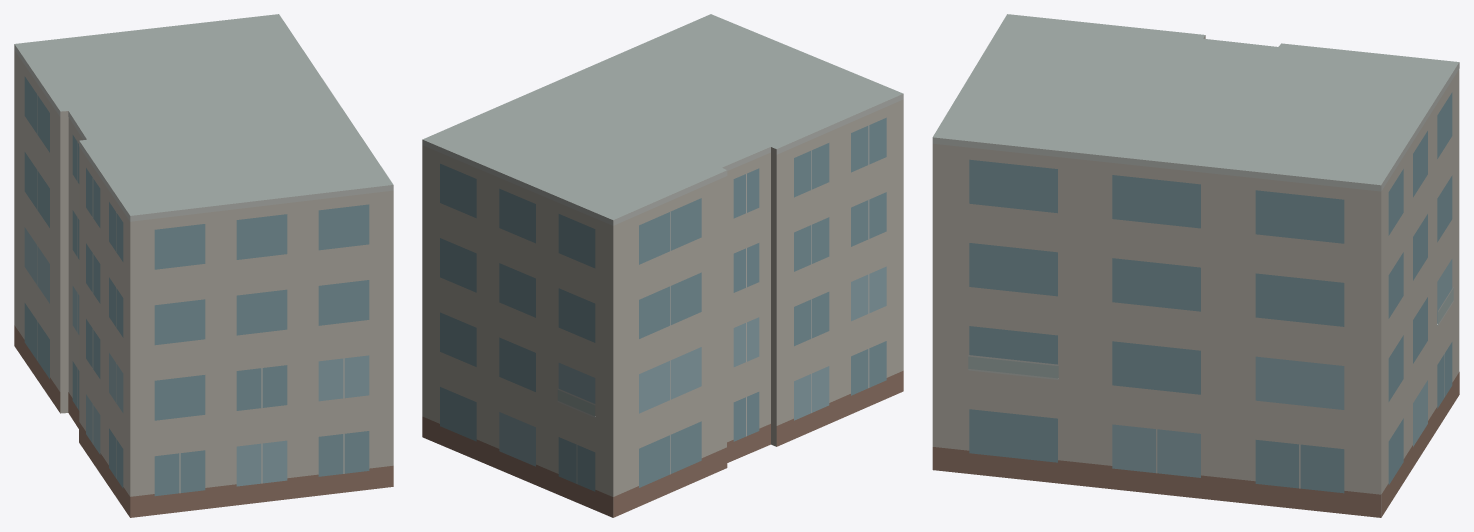
File: survey-upis-32808651.glb
3 views of the same model, side by side, from view 1: azimuth 30°, elevation 25°; view 2: azimuth 150°, elevation 25°; view 3: azimuth 270°, elevation 25° (orthographic). The views are drawn at different scales.
Visible parts, largest first — view 1: survey-upis-32808651.tmp; view 2: survey-upis-32808651.tmp; view 3: survey-upis-32808651.tmp.
Boxes of the visible parts, bbox=[...] form: survey-upis-32808651.tmp: bbox=[14, 14, 393, 517]; survey-upis-32808651.tmp: bbox=[422, 14, 903, 517]; survey-upis-32808651.tmp: bbox=[932, 14, 1459, 517].
Size of the model in its own units: 14.14 by 12.8 by 18.39.
